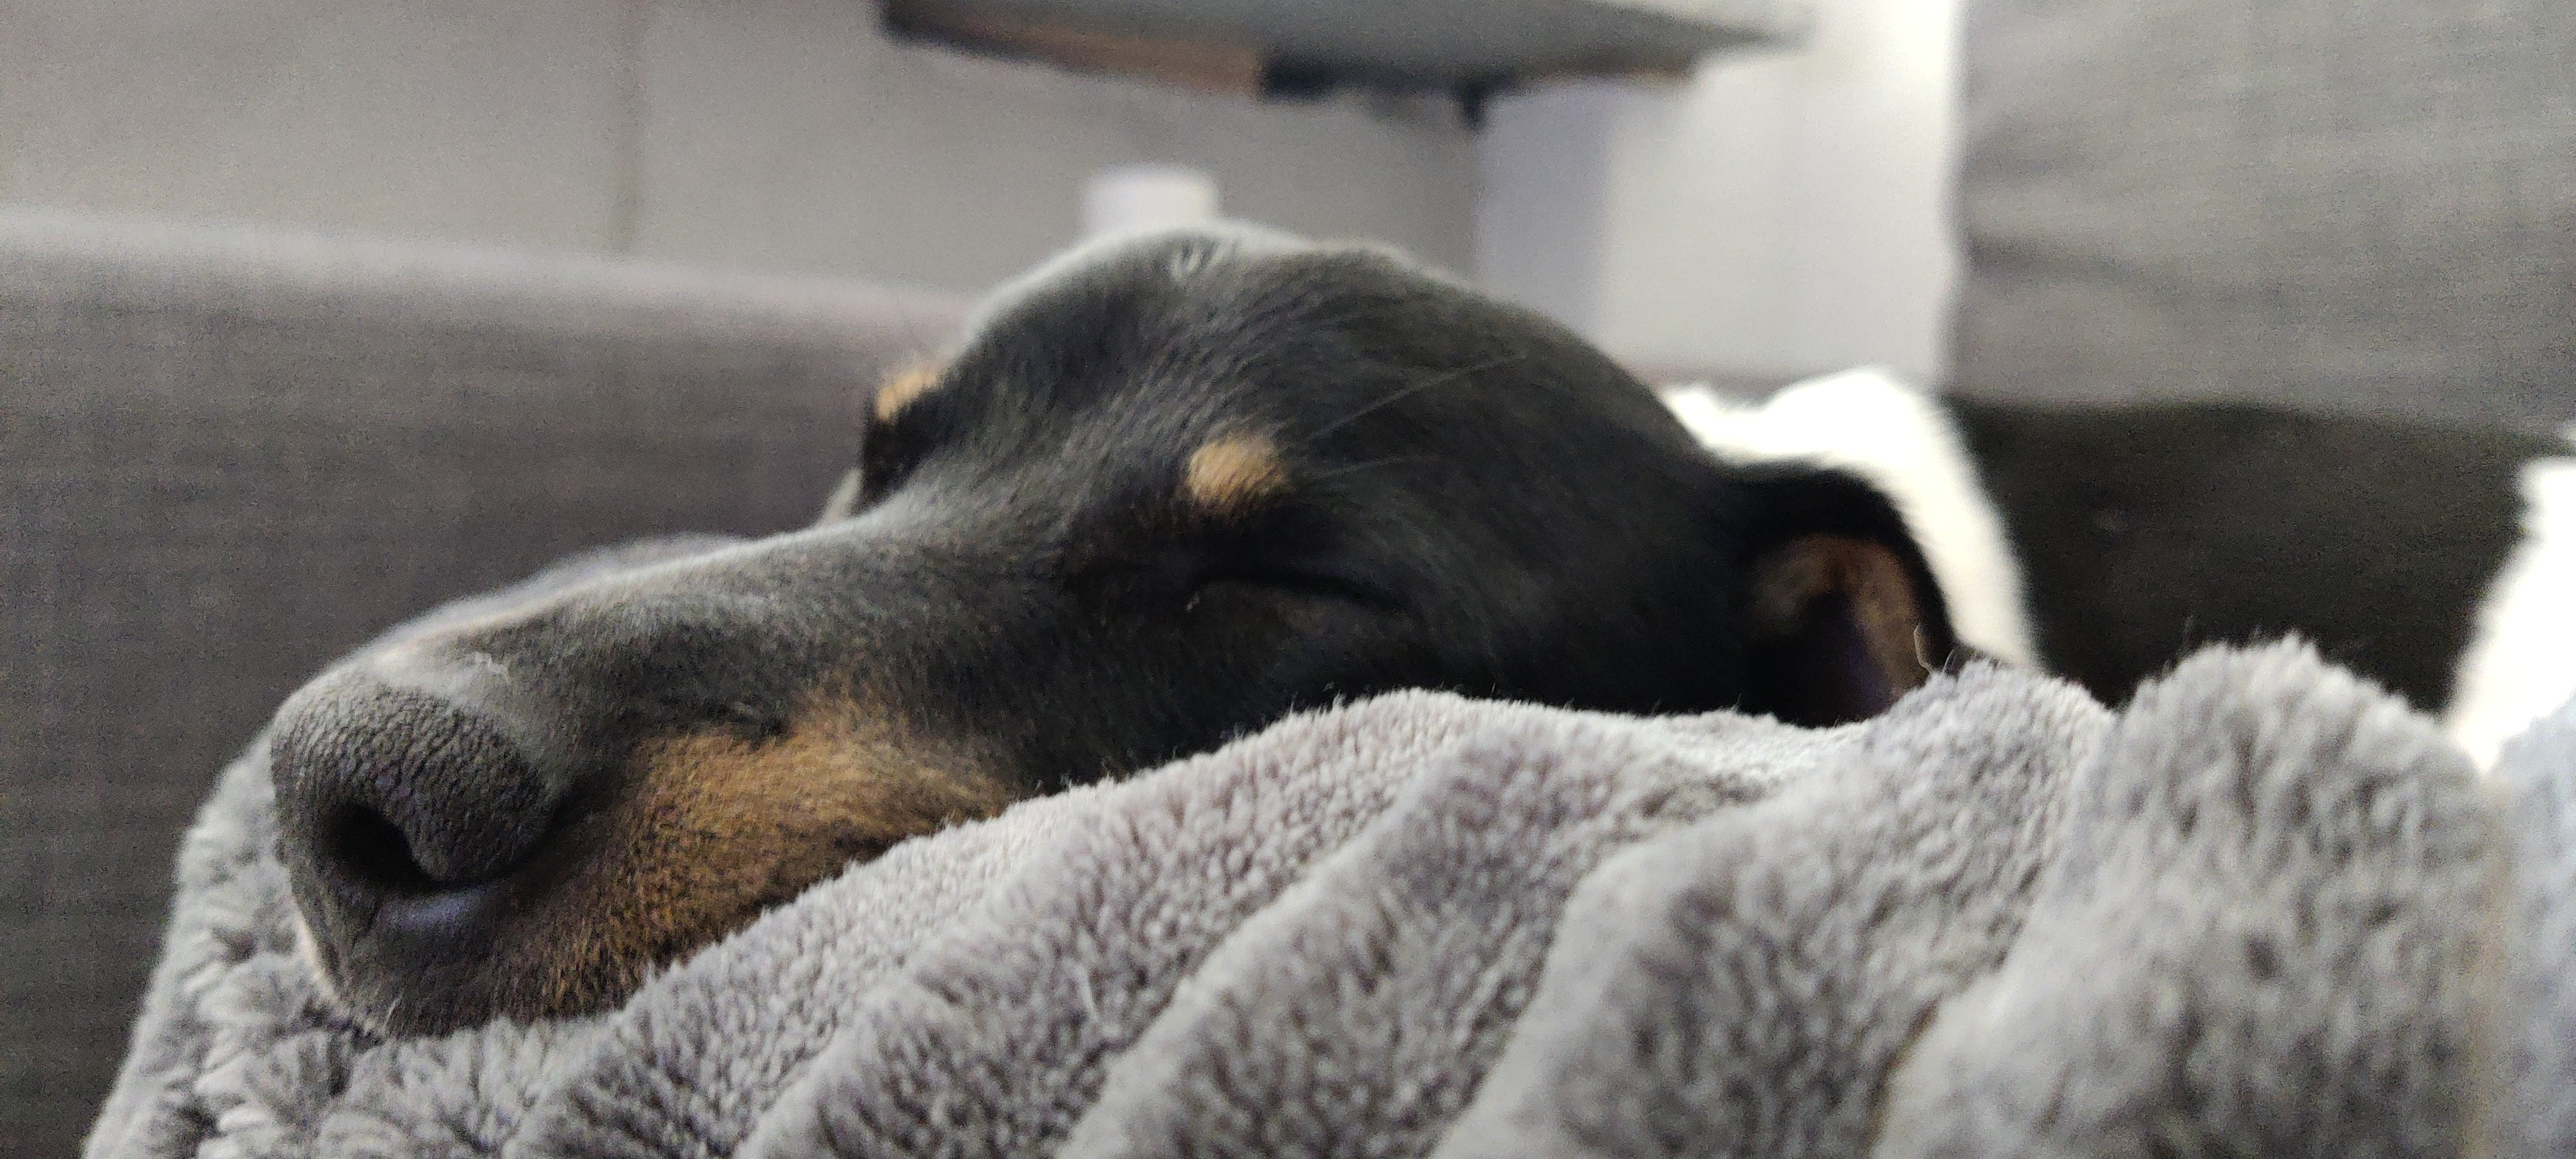Dog: (263, 215, 2576, 1047)
